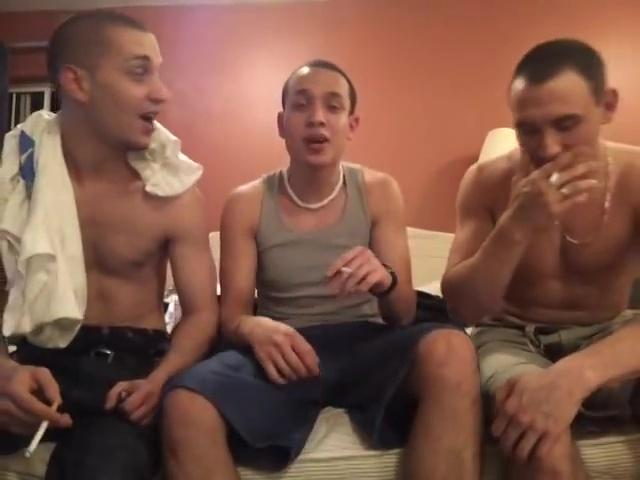cigarette: (23, 397, 64, 461), (547, 168, 563, 187), (338, 264, 354, 274)
